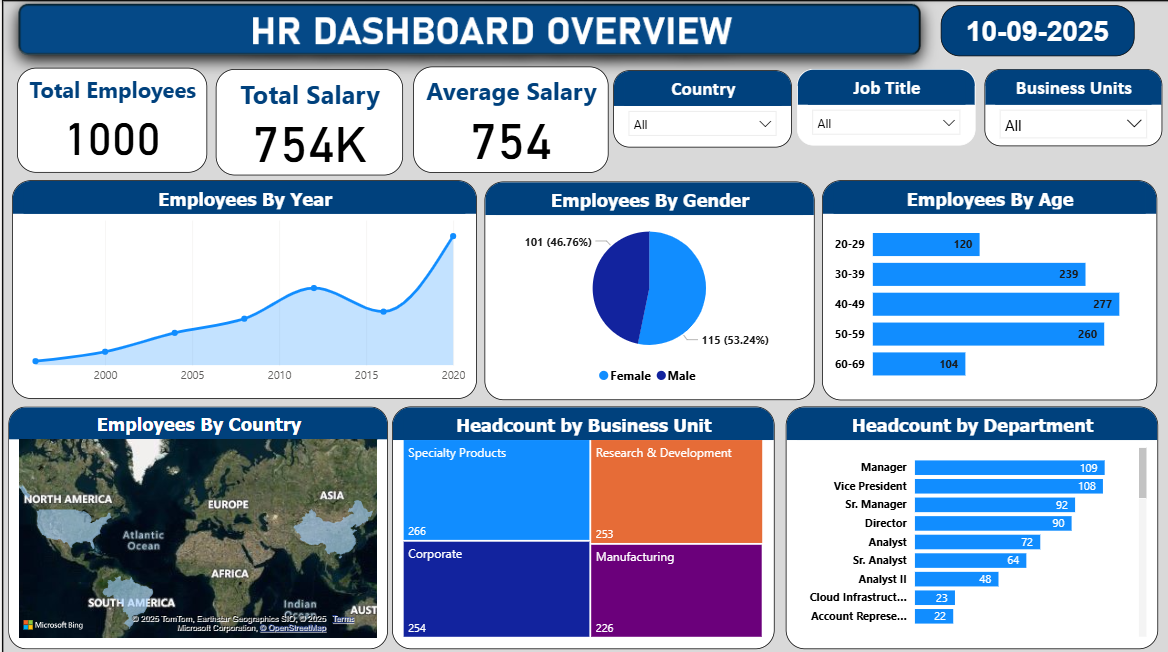

The page's visual inventory and layout, read from the dashboard file:
{"tool":"powerbi","page":{"name":"Page 1","canvas":[1280,720],"ordinal":0},"visuals":[{"type":"card","title":"Total Employees","fields":{"Values":["CountNonNull(Employee Data.Employee ID)"]},"box":[16.5,75.5,208.6,115.3],"z":0},{"type":"lineChart","title":"Employees By Year","fields":{"Category":["Employee Data.Hire Date.Variation.Date Hierarchy.Year"],"Y":["CountNonNull(Employee Data.Employee ID)"]},"box":[11,199,510.5,240.1],"z":1000},{"type":"pieChart","title":"Employees By Gender","fields":{"Category":["Employee Data.Gender"],"Y":["CountNonNull(Employee Data.Full Name)"]},"box":[529.7,200.3,362.3,240.1],"z":2000},{"type":"clusteredBarChart","title":"Employees By Age","fields":{"Category":["Employee Data.Age Group"],"Y":["CountNonNull(Employee Data.Employee ID)"]},"box":[900.2,199,367.8,241.5],"z":3000},{"type":"treemap","title":"Headcount by Business Unit","fields":{"Group":["Employee Data.Business Unit"],"Values":["CountNonNull(Employee Data.Employee ID)"]},"box":[428.1,447.3,419.9,266.2],"z":4000},{"type":"clusteredBarChart","title":"Headcount by Department","fields":{"Category":["Employee Data.Job Title"],"Y":["CountNonNull(Employee Data.Employee ID)"]},"box":[860.4,447.3,408.9,266.2],"z":5000},{"type":"card","fields":{"Values":["Min(Query1.Query1)"]},"box":[1030.5,6.9,212.7,56.3],"z":6000},{"type":"card","title":"Total Salary","fields":{"Values":["Sum(Employee Data.Annual Salary)"]},"box":[234.6,76.8,205.8,116.6],"z":7000},{"type":"slicer","title":"Business Units","fields":{"Values":["Employee Data.Business Unit"]},"box":[1078.6,76.8,194.9,85.1],"z":8000},{"type":"slicer","title":"Country","fields":{"Values":["Employee Data.Country"]},"box":[671,78.2,196.2,85.1],"z":9000},{"type":"slicer","title":"Job Title","fields":{"Values":["Employee Data.Job Title"]},"box":[872.7,76.8,196.2,83.7],"z":10000},{"type":"card","title":"Average Salary","fields":{"Values":["Avg(Employee Data.Annual Salary)"]},"box":[451.5,74.1,214.1,116.6],"z":11000},{"type":"filledMap","title":"Employees  By Country","fields":{"Category":["Employee Data.Country"]},"box":[6.9,447.3,417.2,266.2],"z":12000}]}

Visuals, with their boxes in screenshot pixels (x1, y1, x2, y2), scaled from the page's 1280x720 canvas onto the 1168x652 screenshot:
"Total Employees" card: 15:68:205:173
"Employees By Year" lineChart: 10:180:476:398
"Employees By Gender" pieChart: 483:181:814:399
"Employees By Age" clusteredBarChart: 821:180:1157:399
"Headcount by Business Unit" treemap: 391:405:774:646
"Headcount by Department" clusteredBarChart: 785:405:1158:646
card - Min(Query1.Query1): 940:6:1134:57
"Total Salary" card: 214:70:402:175
"Business Units" slicer: 984:70:1162:147
"Country" slicer: 612:71:791:148
"Job Title" slicer: 796:70:975:145
"Average Salary" card: 412:67:607:173
"Employees  By Country" filledMap: 6:405:387:646
